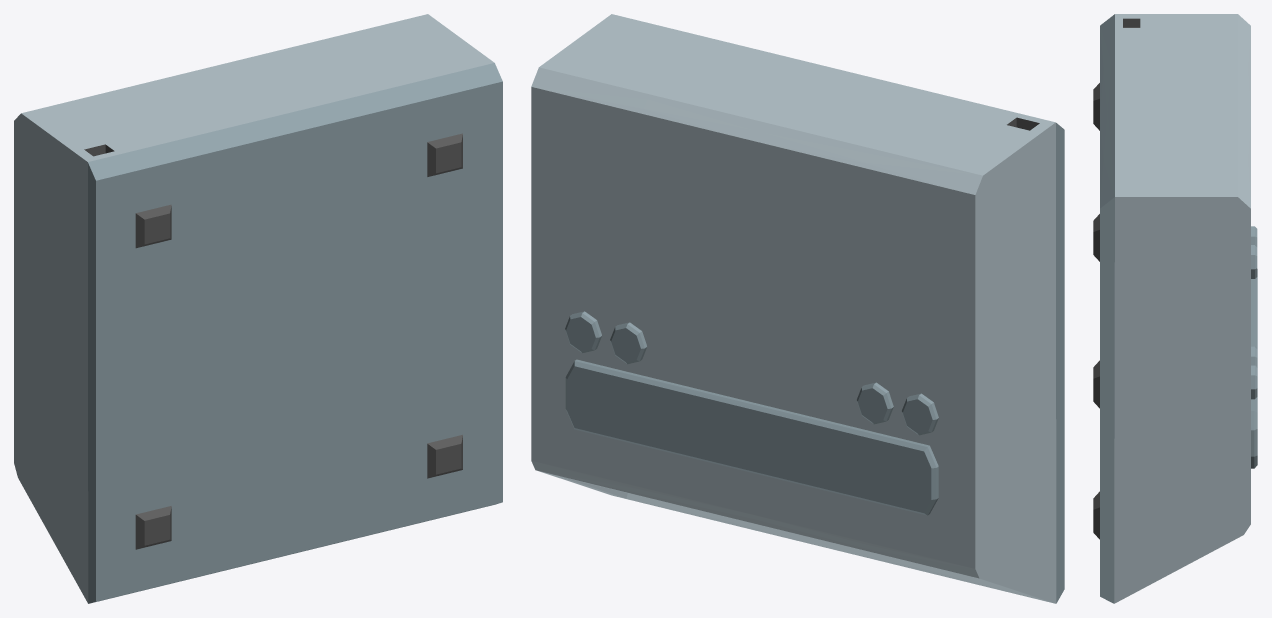
File: Clock2332.fbx
The picture shows the model from 3 angles, left to right: view 1: azimuth 30°, elevation 25°; view 2: azimuth 150°, elevation 25°; view 3: azimuth 270°, elevation 25°; orthographic projection. The views are drawn at different scales.
Visible parts, largest first — view 1: Object.1; view 2: Object.1; view 3: Object.1.
Boxes of the visible parts, left/top/right/bottom form: Object.1: left=14, top=14, right=502, bottom=603; Object.1: left=531, top=14, right=1064, bottom=603; Object.1: left=1093, top=14, right=1257, bottom=603.
Bounding box in the file's own units: 998 × 1035 × 378.
